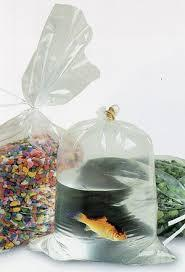Plastic bag: (0, 2, 185, 272)
